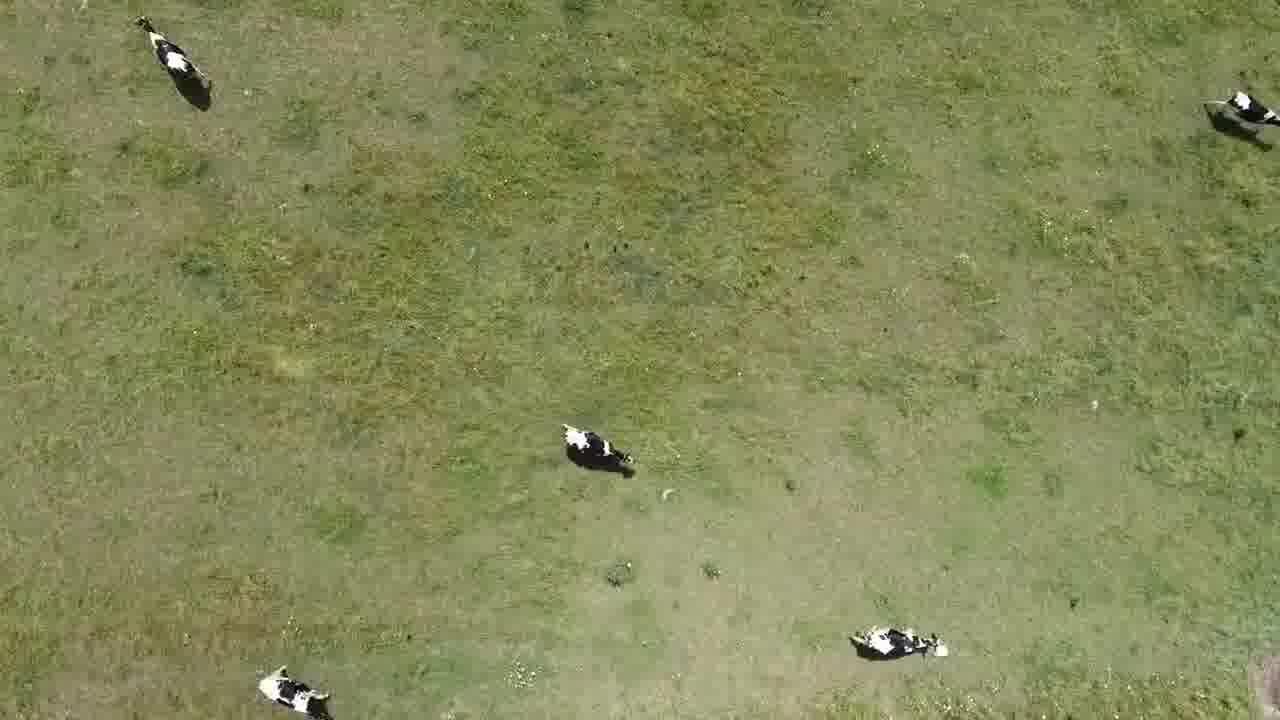cow: (132, 12, 212, 100), (252, 662, 333, 720), (847, 618, 945, 665), (1202, 82, 1280, 136), (558, 421, 637, 473)
